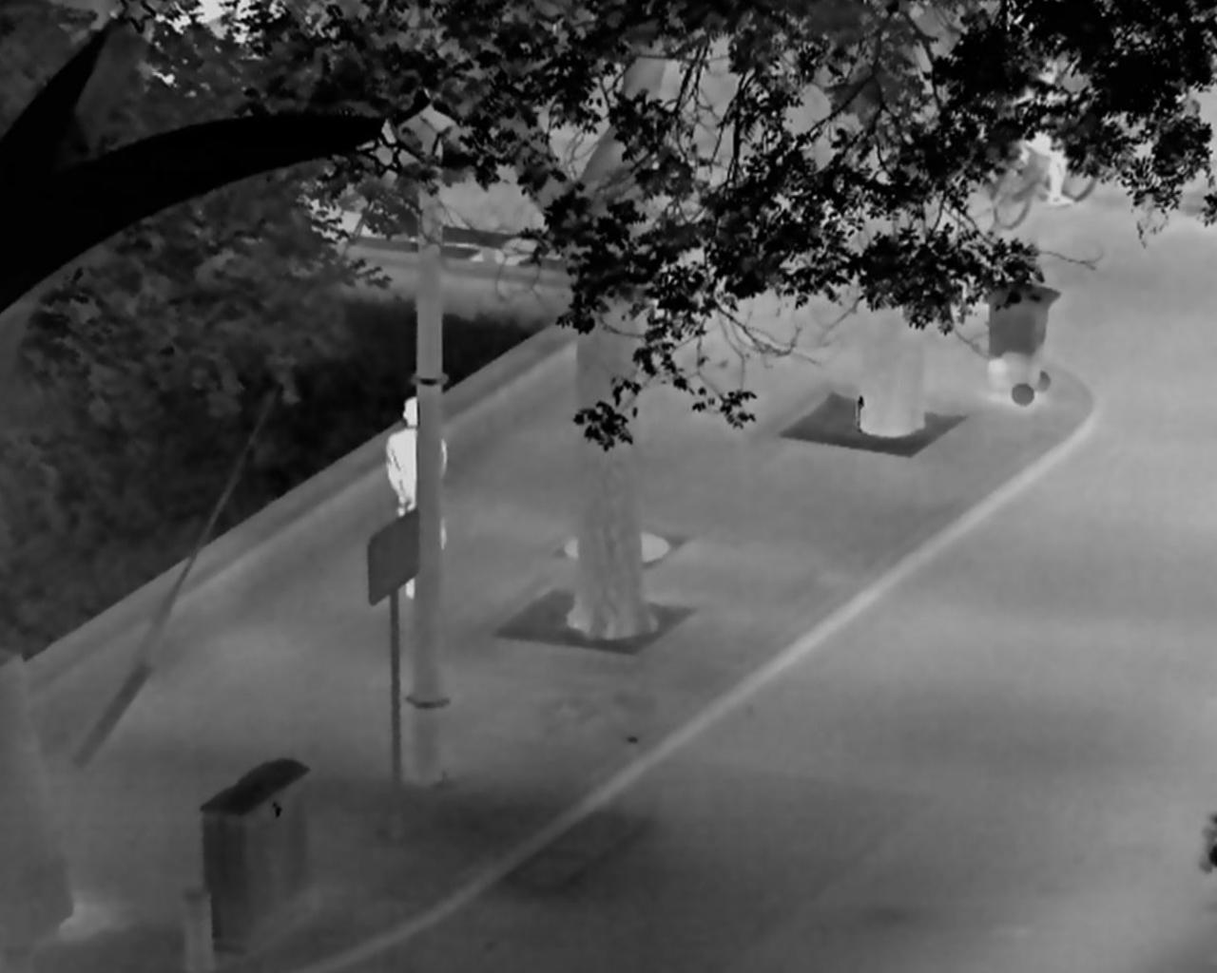person: (384, 394, 448, 601)
